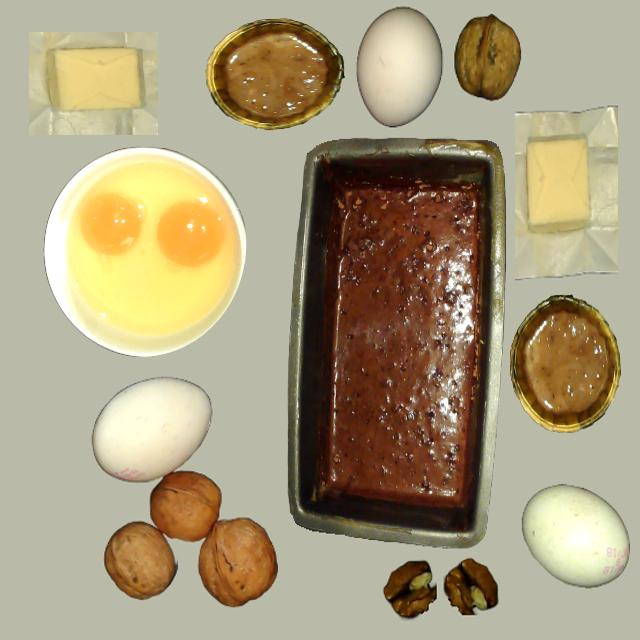Egg: (157, 199, 224, 268), (80, 192, 144, 256)
Walnut: (198, 518, 277, 605), (454, 15, 520, 101), (103, 522, 177, 598), (149, 471, 221, 542)
